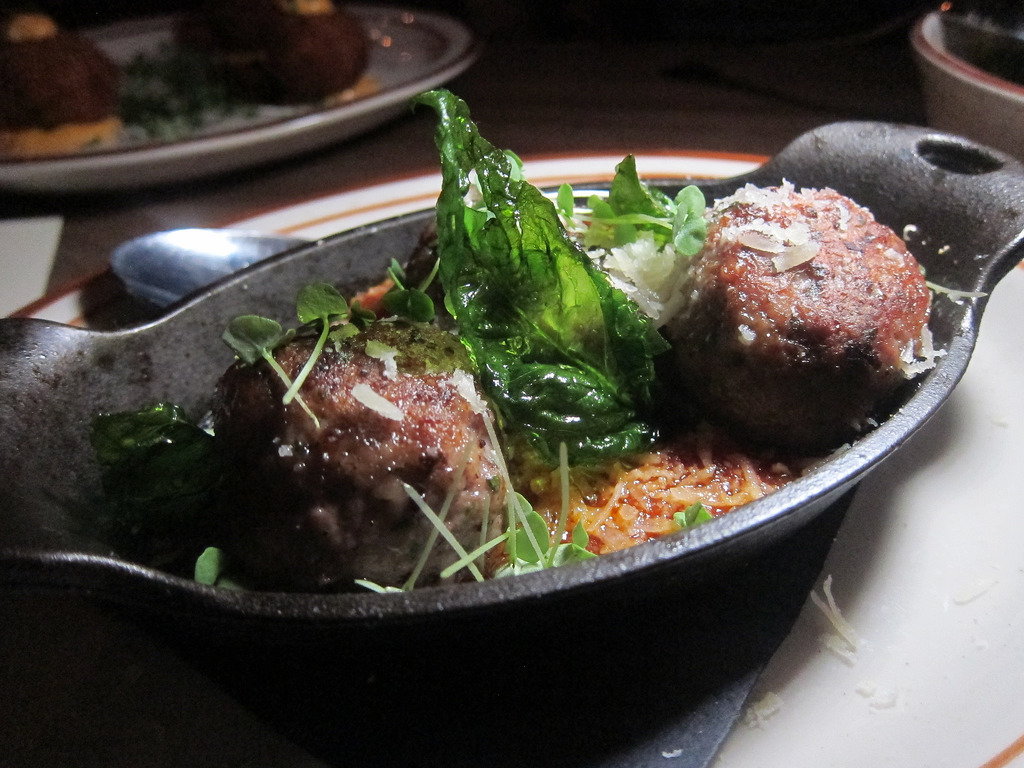chopped lettuce: (460, 207, 654, 447)
meatballs: (215, 321, 518, 585), (701, 191, 926, 431)
